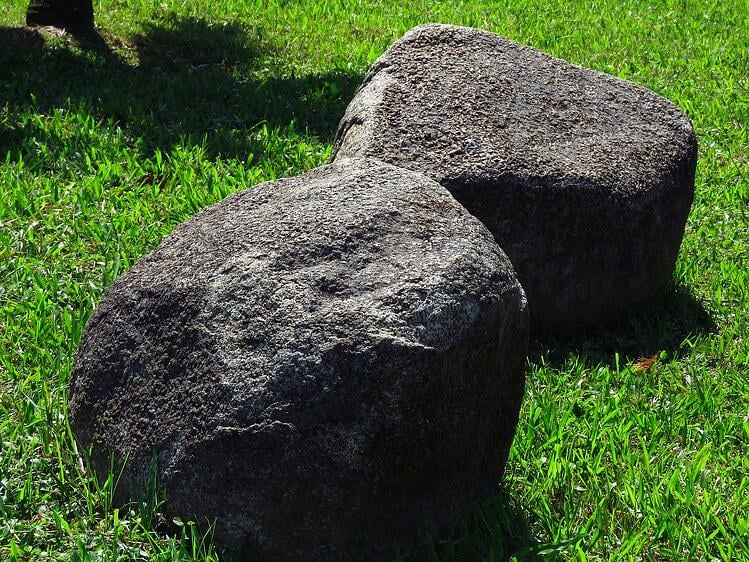grass: (510, 345, 743, 561), (71, 6, 314, 179), (1, 44, 74, 557)
rock: (70, 155, 526, 552), (324, 21, 699, 327)
